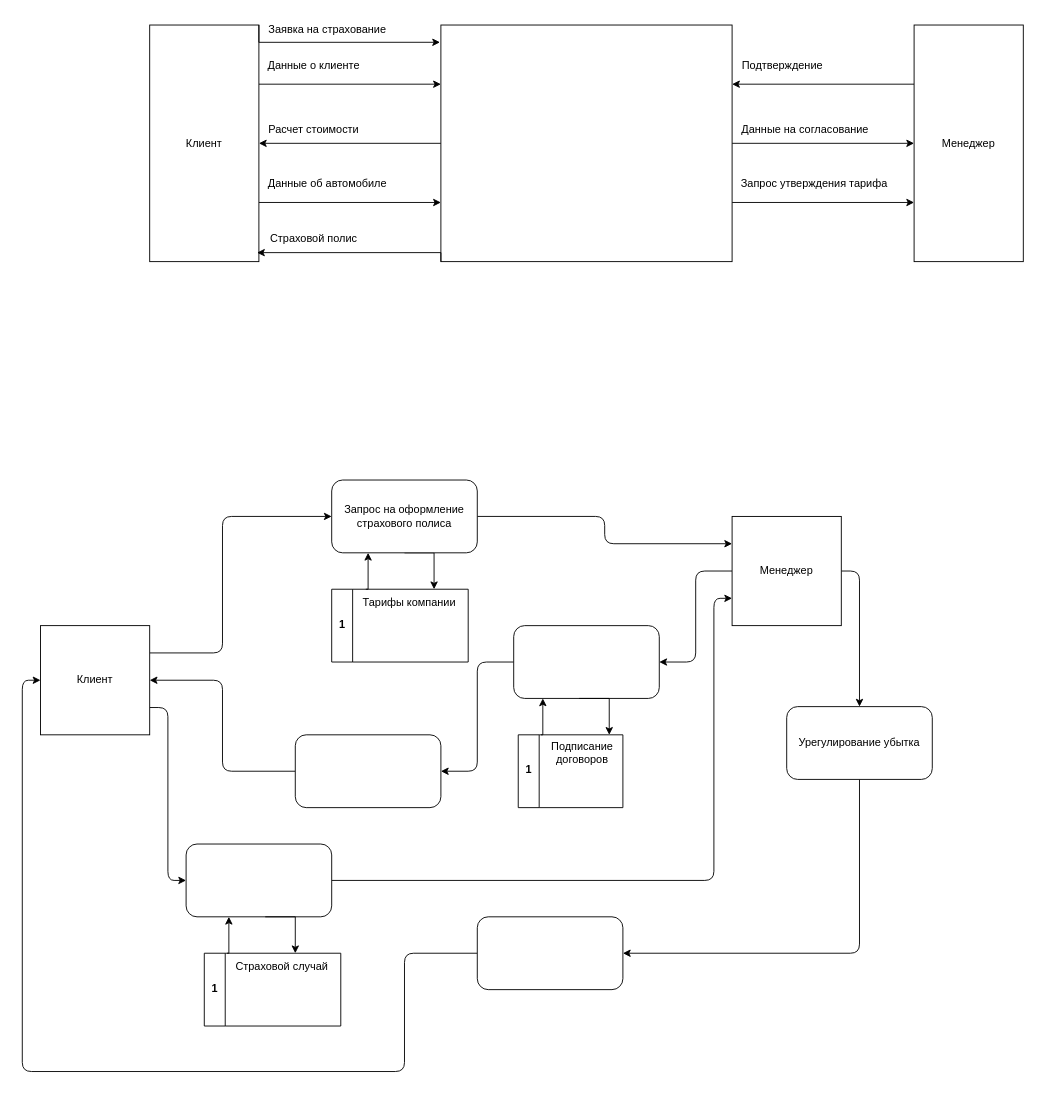
Image size: 1039x1095. Some labels were removed from this diagram. Each missing label, with the box of its shape:
Выдача полиса: (294, 734, 441, 808)
Выплатить клиенту: (476, 916, 623, 990)
Заявление о ДТП: (185, 843, 332, 917)
Расчет и оформление: (513, 625, 659, 698)
Страхование автомобиля: (440, 24, 732, 262)
